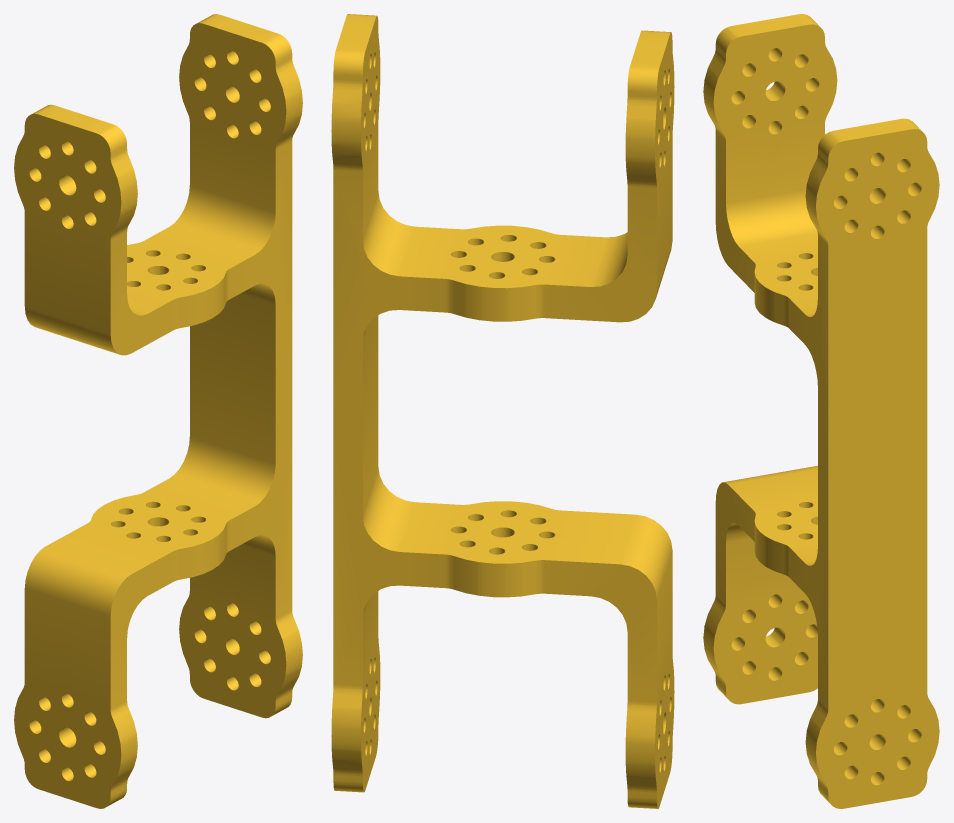
File: arm_link.dae
3 views of the same model, side by side, from view 1: azimuth 30°, elevation 25°; view 2: azimuth 150°, elevation 25°; view 3: azimuth 270°, elevation 25° (orthographic). The views are drawn at different scales.
Visible parts, largest first — view 1: node0; view 2: node0; view 3: node0.
Part boxes in pixels (x1,y1,x2,y2): node0: (14,14,302,808); node0: (331,14,674,808); node0: (703,14,939,808).
Size of the model in its own units: 0.0483 by 0.11 by 0.0353.
